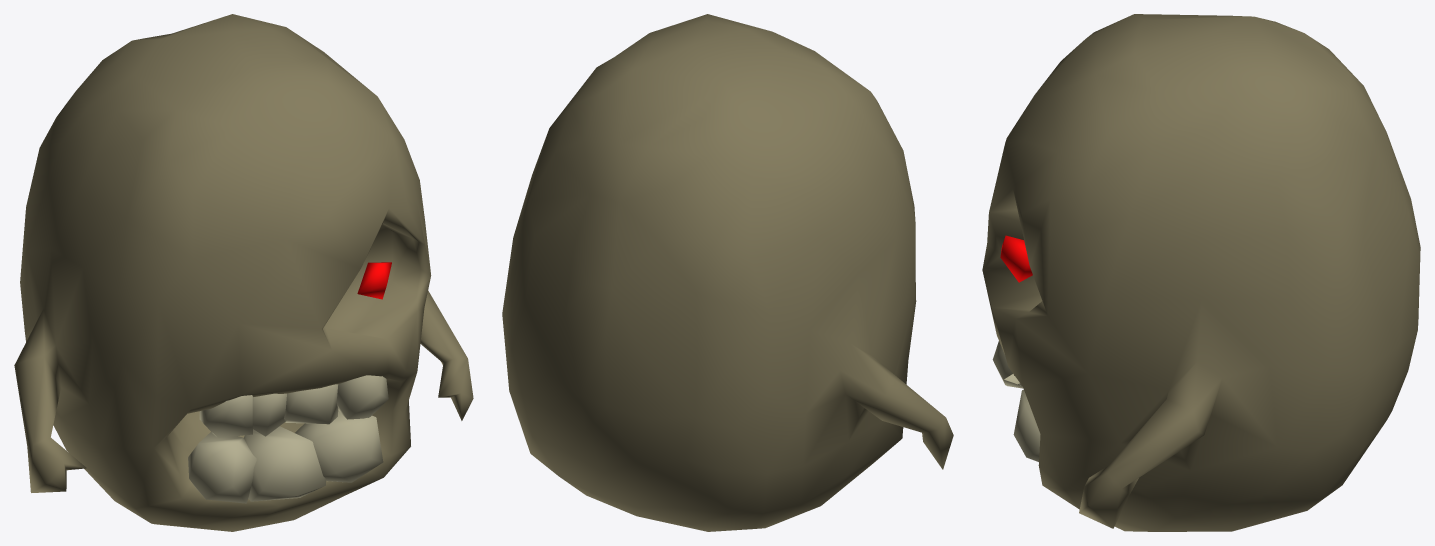
File: INIMIGO.FBX
3 renders of one model, left to right at view 1: azimuth 30°, elevation 25°; view 2: azimuth 150°, elevation 25°; view 3: azimuth 270°, elevation 25°, orthographic. The views are drawn at different scales.
Parts seen in each view (by area): view 1: cabeca, dentes, olho; view 2: cabeca; view 3: cabeca, dentes, olho.
Boxes of the visible parts, bbox=[...] form: cabeca: bbox=[14, 14, 473, 531]; dentes: bbox=[188, 375, 388, 503]; olho: bbox=[357, 262, 391, 299]; cabeca: bbox=[502, 14, 953, 531]; cabeca: bbox=[982, 14, 1420, 531]; dentes: bbox=[992, 341, 1040, 461]; olho: bbox=[1000, 235, 1032, 282].
Bounding box in the file's own units: 7.01 × 7.38 × 6.18.
